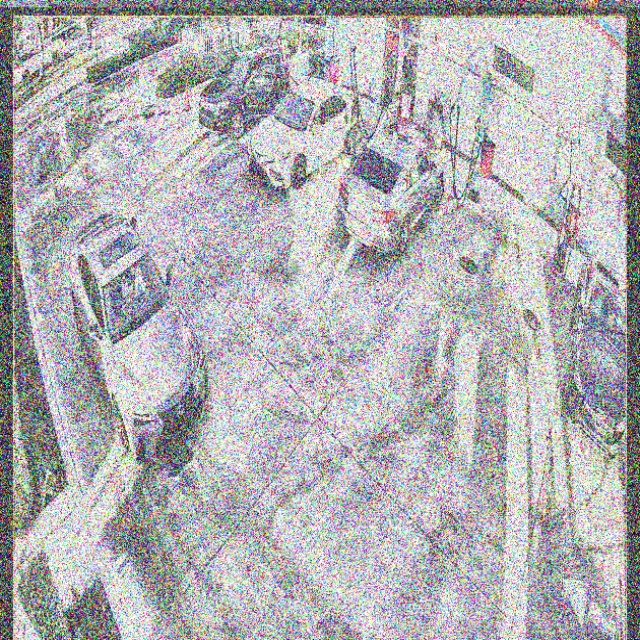Car: (68, 209, 208, 461), (338, 132, 444, 251), (249, 78, 358, 185)
